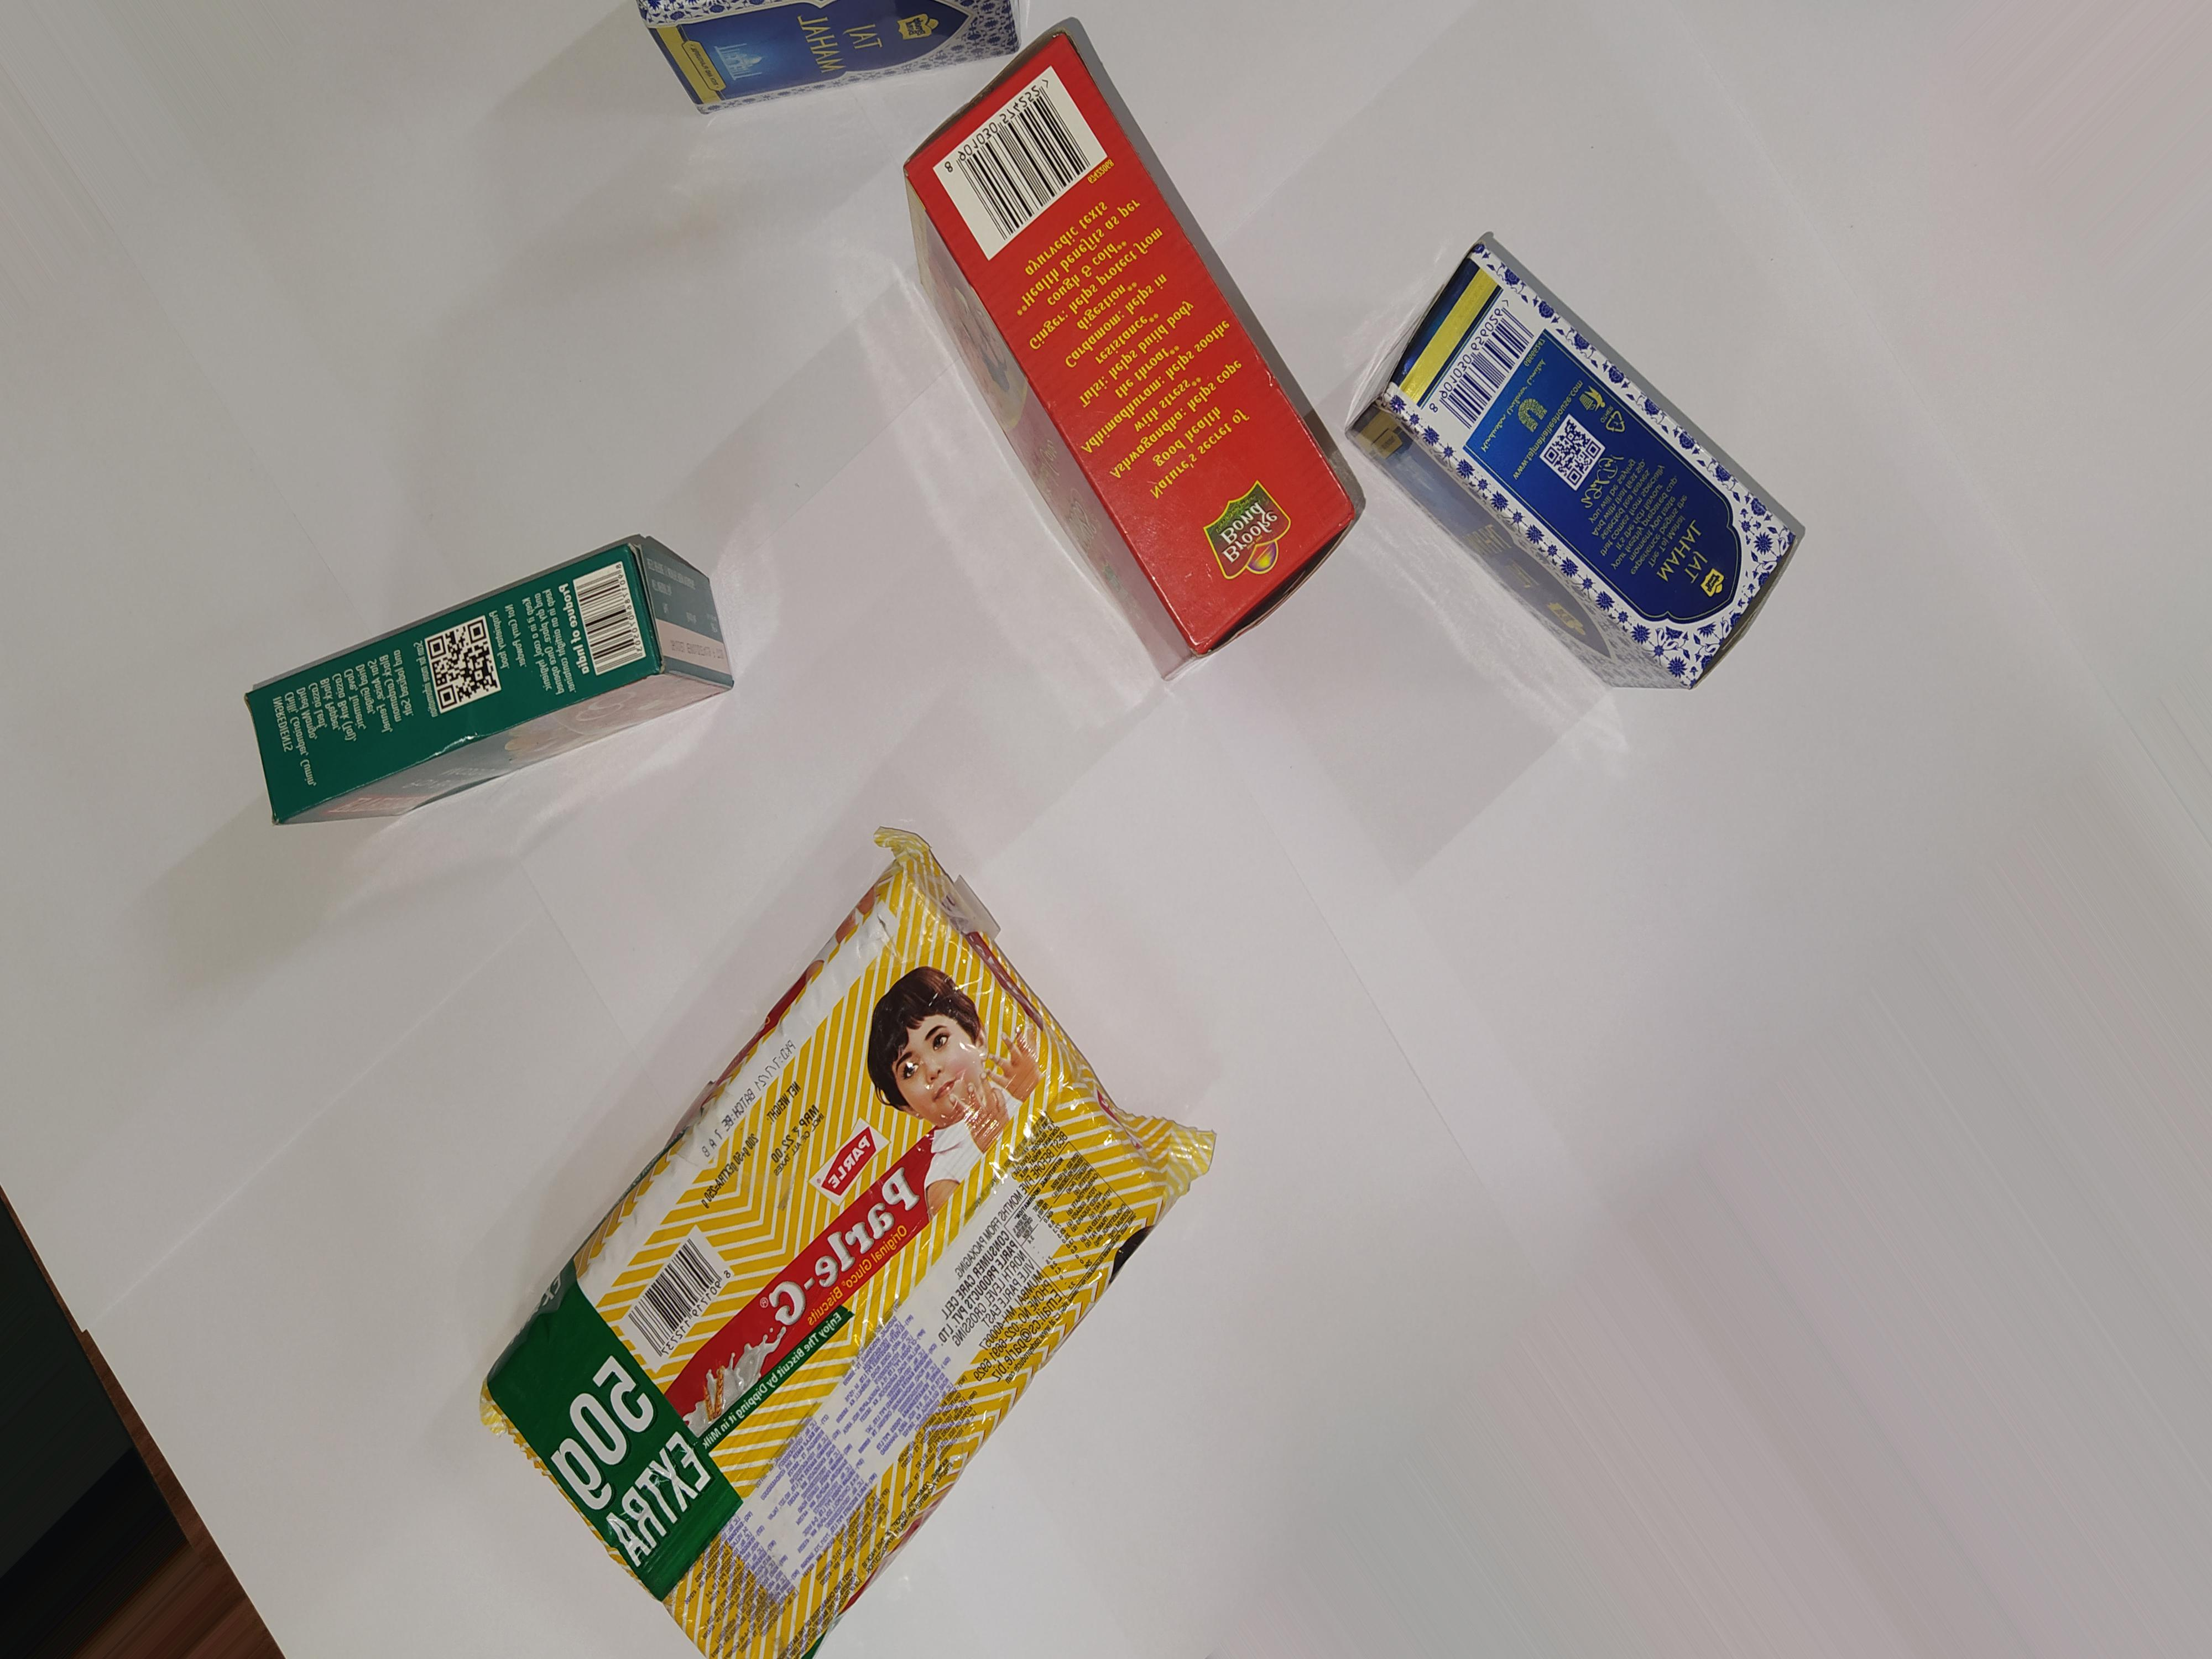Bar_code: (909, 64, 1132, 291), (608, 1230, 738, 1384), (1423, 275, 1534, 441), (557, 549, 662, 695)
Item: (455, 807, 1294, 1659), (914, 0, 1371, 737), (1332, 214, 1818, 734), (176, 559, 745, 870)
QR_code: (415, 617, 516, 734), (1540, 411, 1606, 502)
